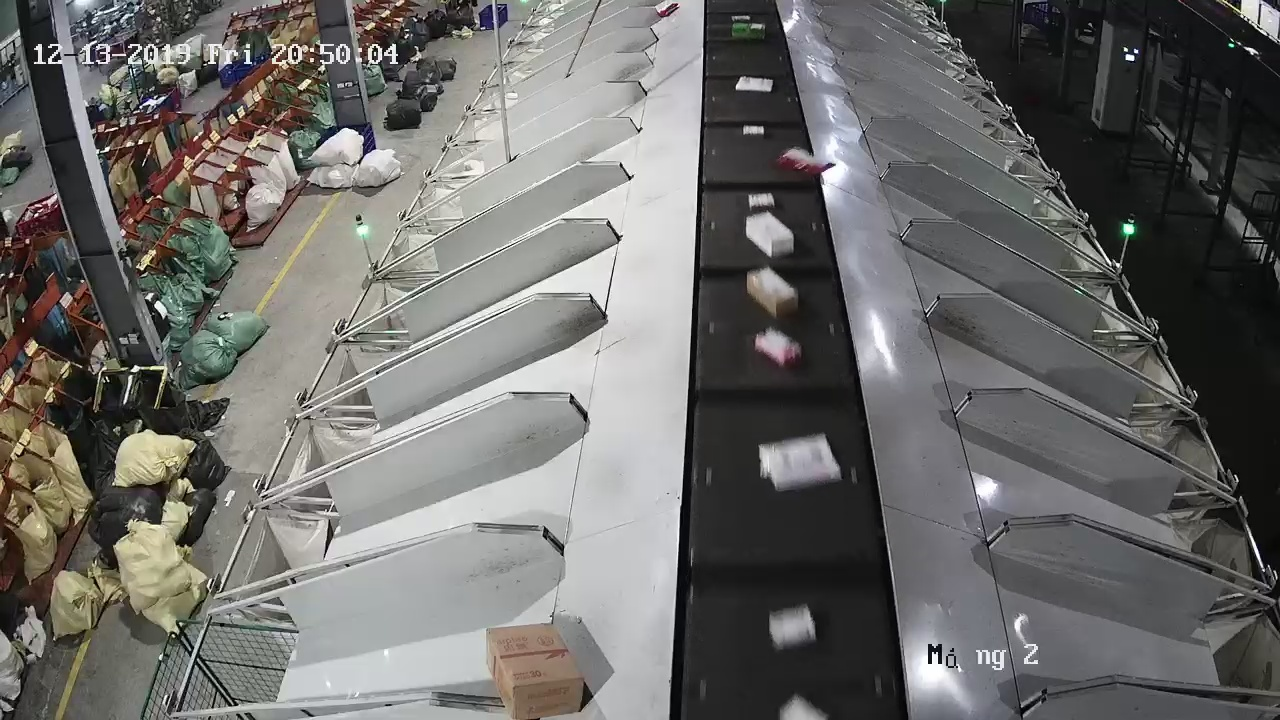parcel: (775, 144, 834, 178)
